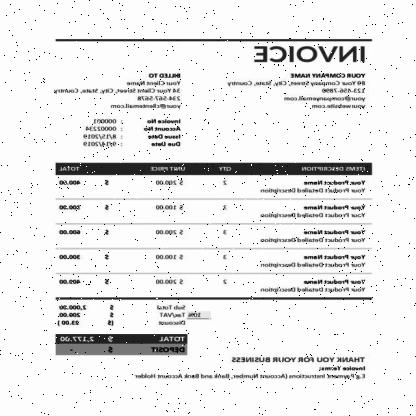Paragraph: (222, 70, 371, 112), (51, 72, 184, 112), (55, 302, 211, 330), (132, 365, 368, 381), (80, 116, 184, 149), (249, 42, 370, 66), (56, 334, 188, 354), (229, 356, 368, 364)
Table: (56, 162, 371, 298)
